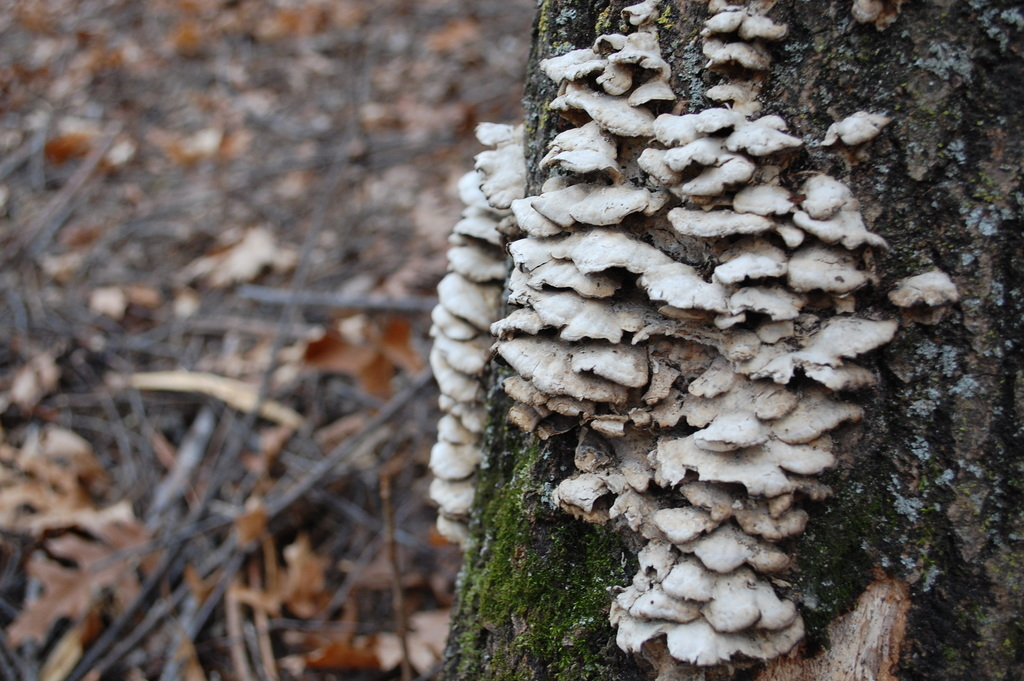Tree: (435, 0, 1024, 680)
